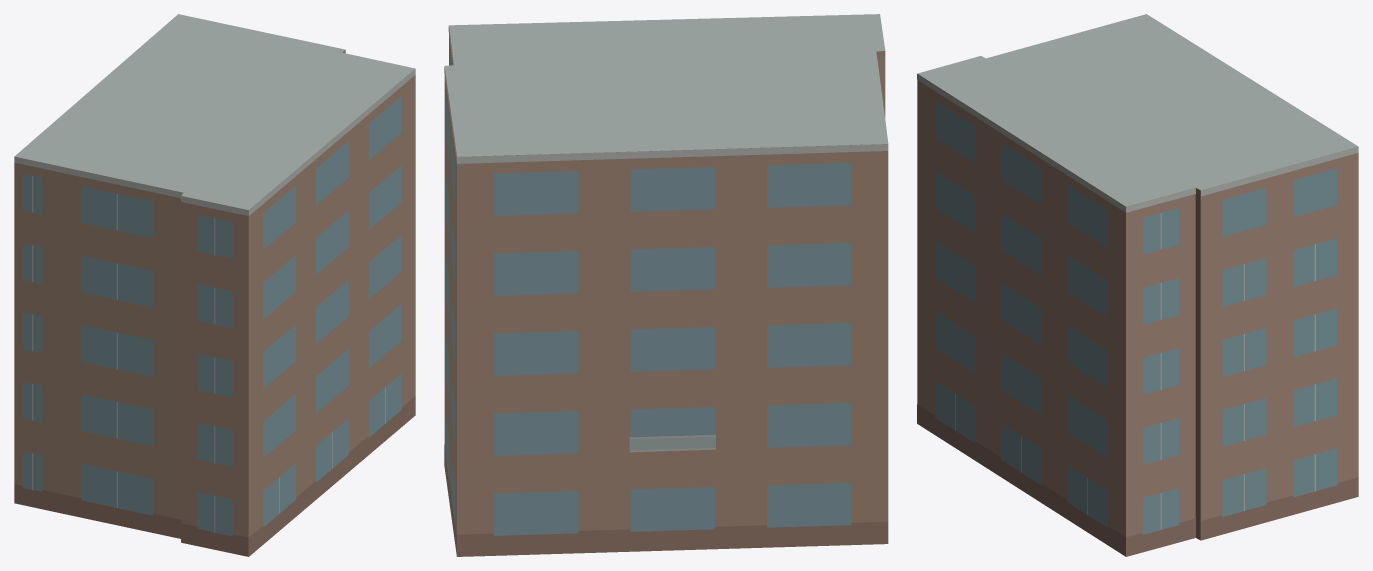
The model's file is survey-upis-32764867.glb.
3 views of the same model, side by side, from view 1: azimuth 30°, elevation 25°; view 2: azimuth 150°, elevation 25°; view 3: azimuth 270°, elevation 25° (orthographic). The views are drawn at different scales.
Parts seen in each view (by area): view 1: survey-upis-32764867.tmp; view 2: survey-upis-32764867.tmp; view 3: survey-upis-32764867.tmp.
Part boxes in pixels (x1,y1,x2,y2): survey-upis-32764867.tmp: [14, 14, 415, 556]; survey-upis-32764867.tmp: [444, 14, 888, 556]; survey-upis-32764867.tmp: [917, 14, 1358, 556].
Bounding box in the file's own units: 16.42 × 13.9 × 15.89.
